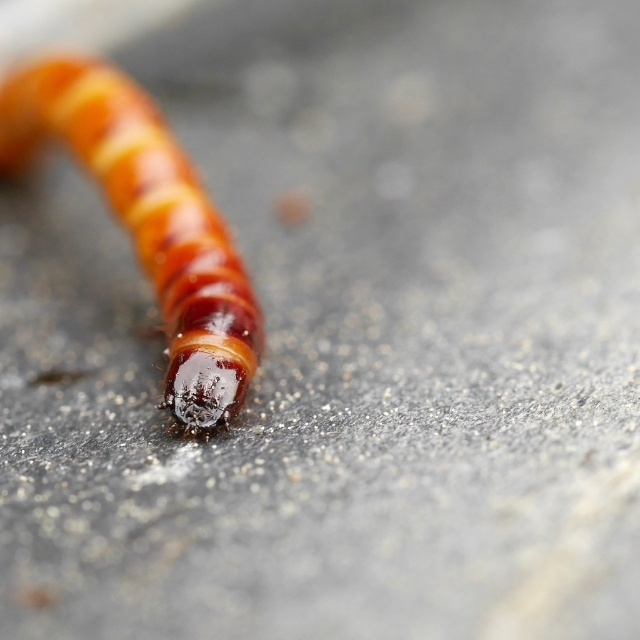Caterpillar: (0, 38, 268, 451)
